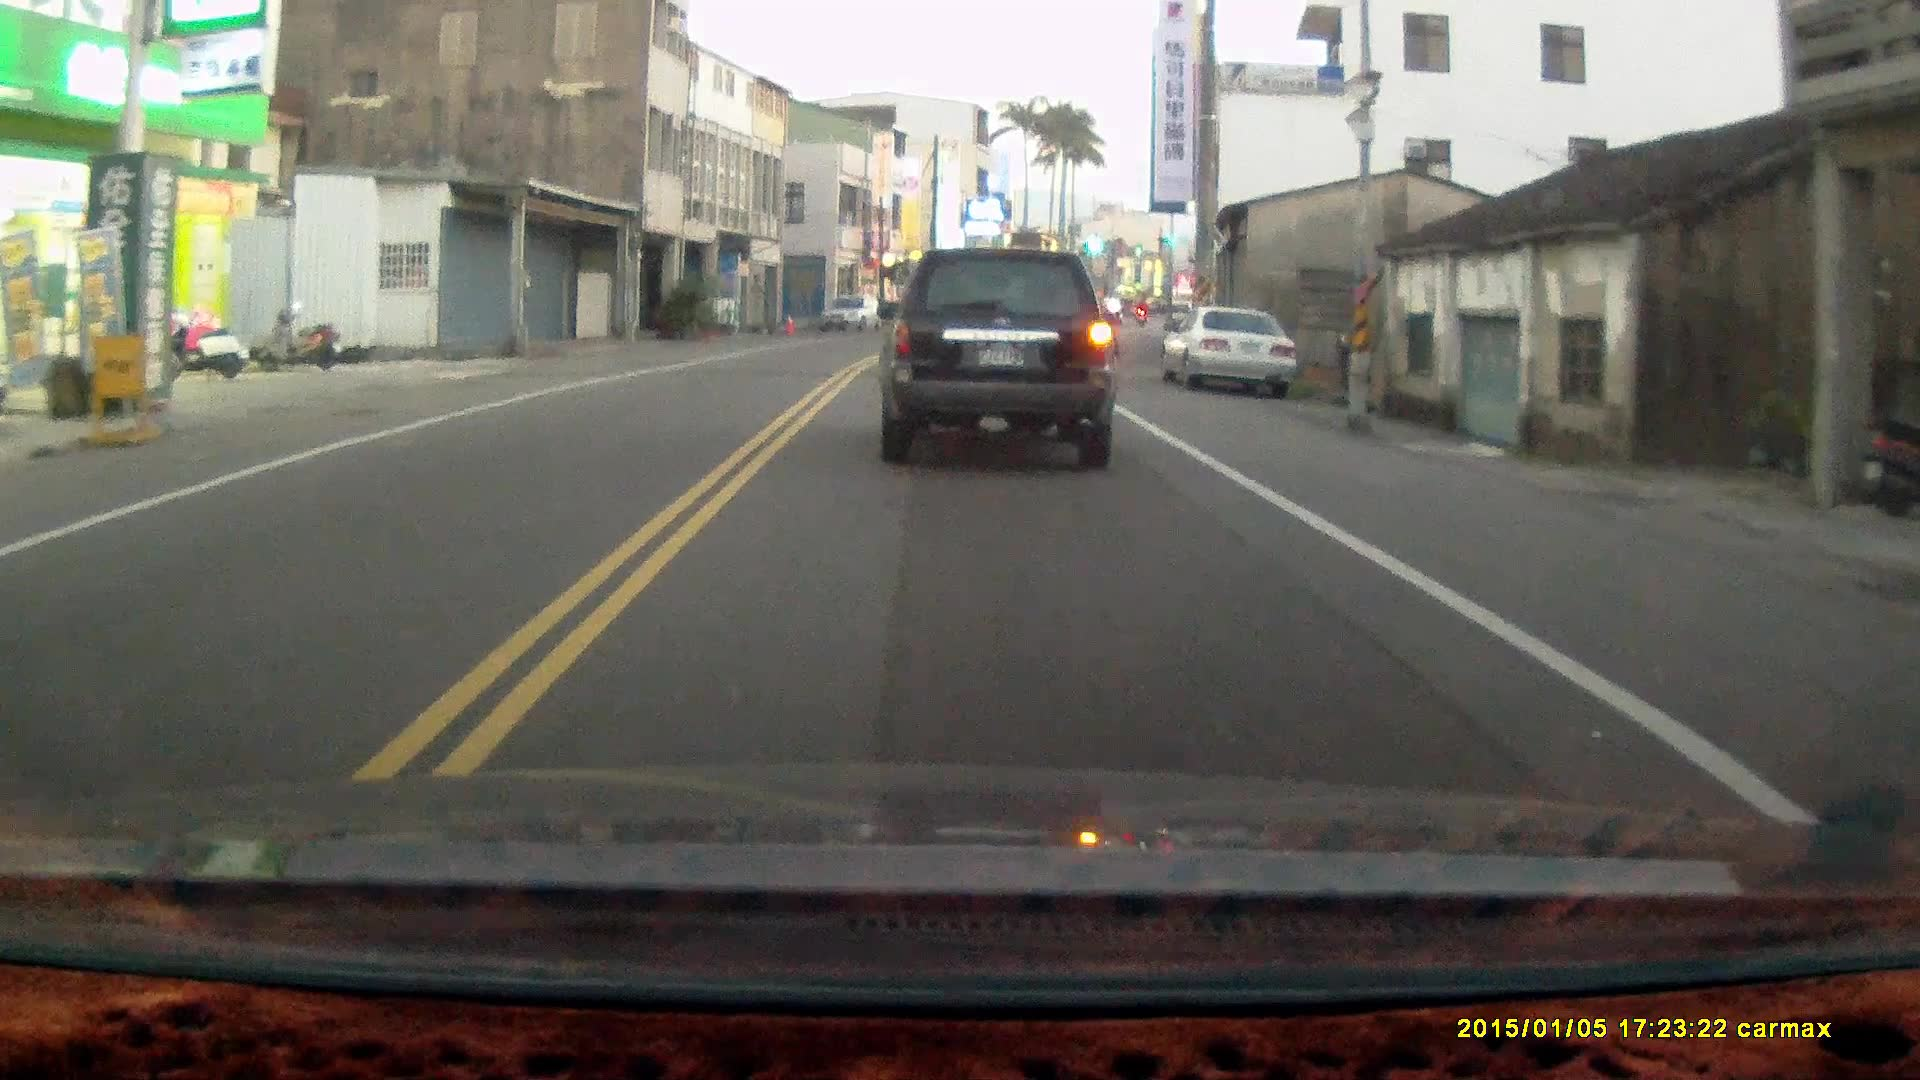vehicle: (880, 243, 1122, 472), (1164, 305, 1300, 396), (822, 298, 884, 343)
